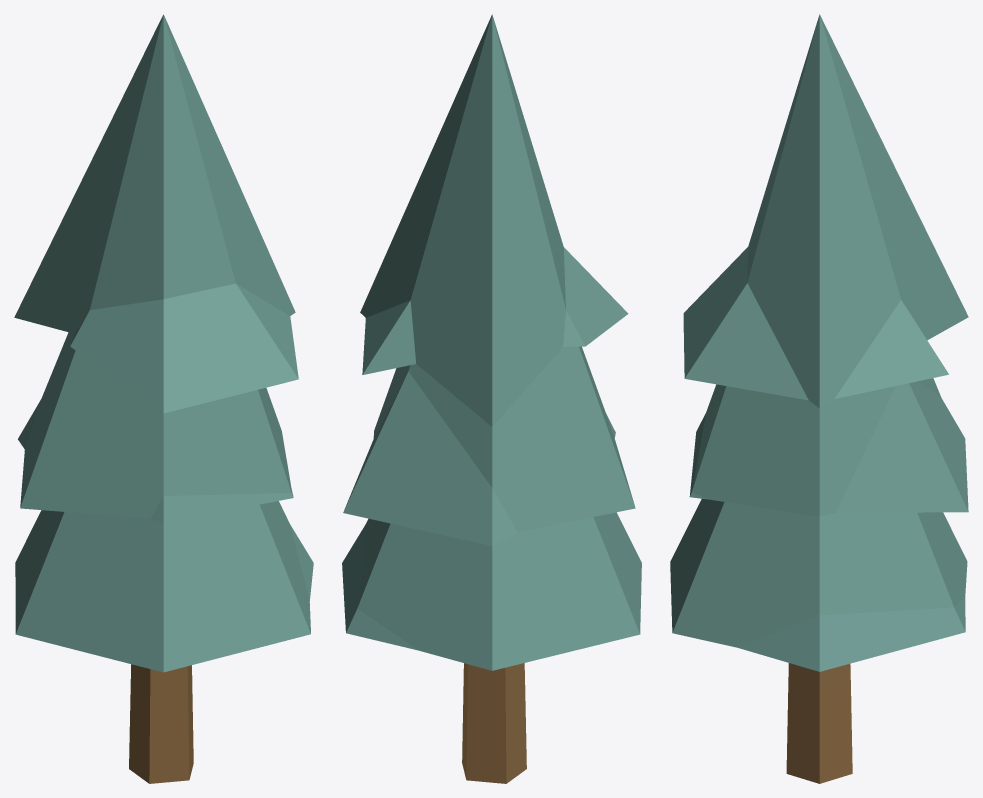
File: Pine_007.fbx
3 views of the same model, side by side, from view 1: azimuth 30°, elevation 25°; view 2: azimuth 150°, elevation 25°; view 3: azimuth 270°, elevation 25° (orthographic).
Parts seen in each view (by area): view 1: Pine.007; view 2: Pine.007; view 3: Pine.007.
Part boxes in pixels (left/top/right/bottom): Pine.007: left=14, top=14, right=313, bottom=783; Pine.007: left=342, top=14, right=641, bottom=783; Pine.007: left=670, top=14, right=968, bottom=783.
Size of the model in its own units: 3.75 by 9.08 by 3.25.
